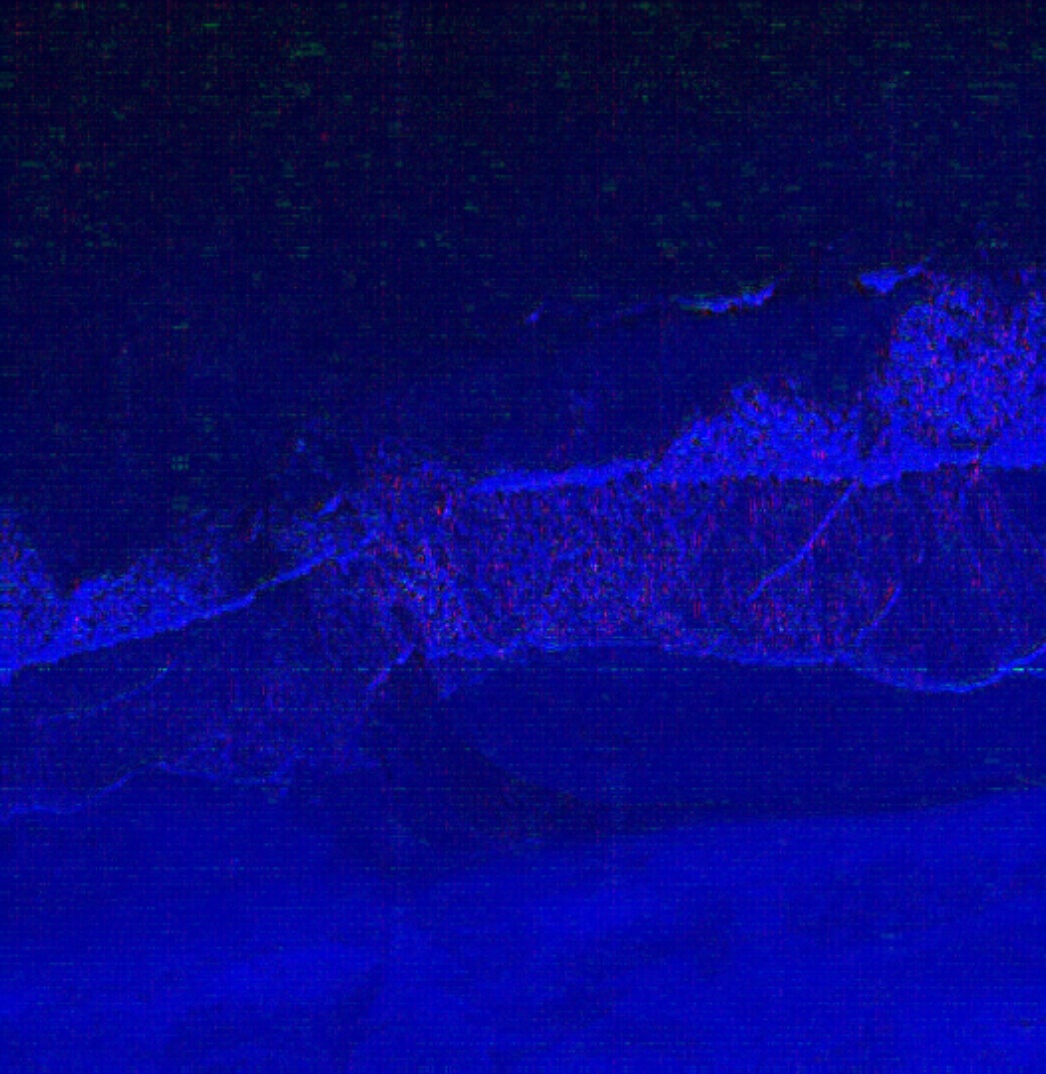rip_current: (191, 475, 468, 763)
